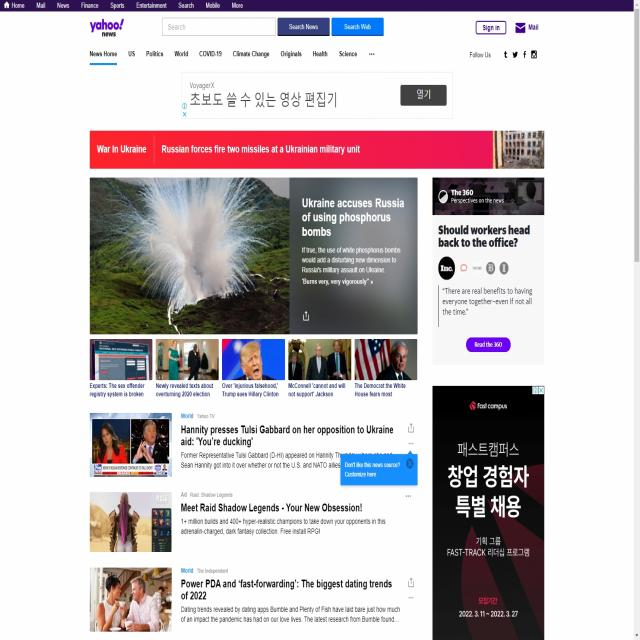menu-bar: (472, 12, 544, 41)
menu-panel: (86, 45, 383, 65)
search: (161, 15, 385, 38)
